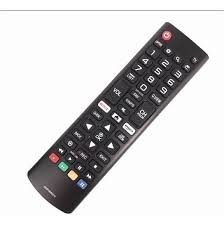remote control: (3, 15, 224, 221)
